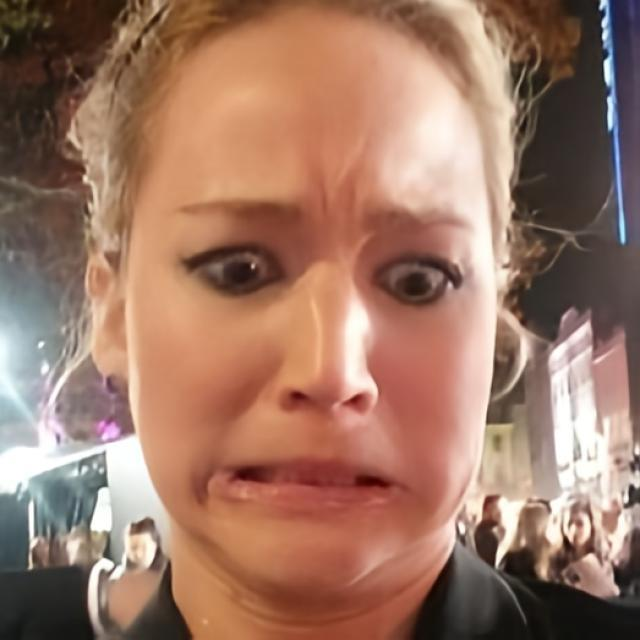Fear: (127, 2, 498, 598)
